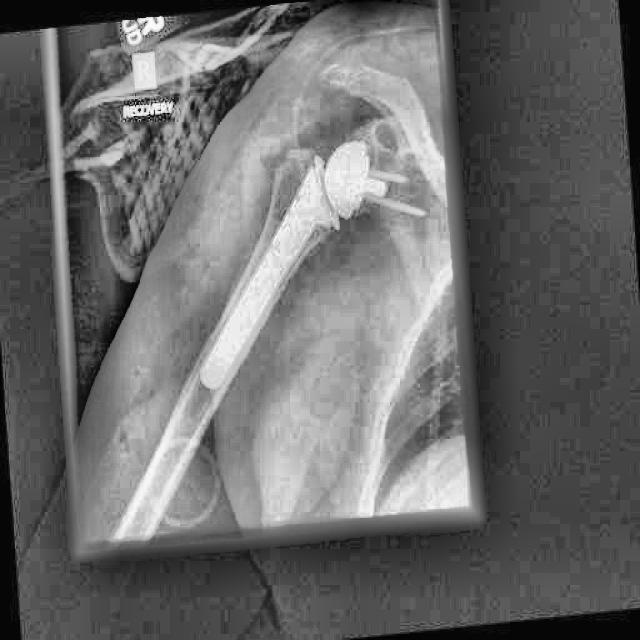shoulder fracture: (295, 96, 387, 242)
